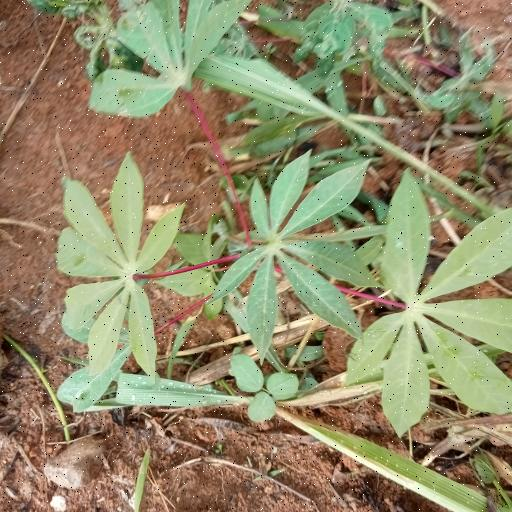Cassava_Mosaic: (47, 132, 188, 382)
